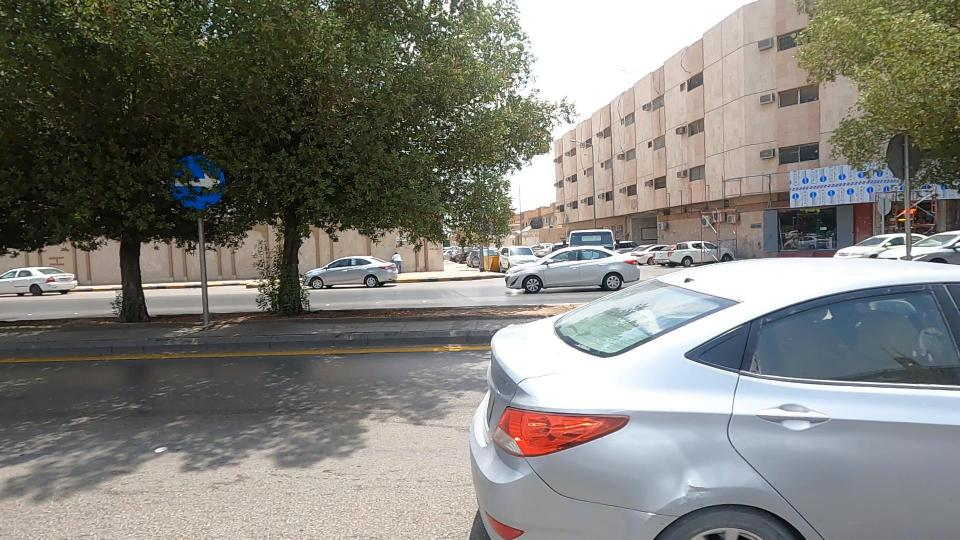FADED_SIGNAGE: (94, 122, 285, 240)
